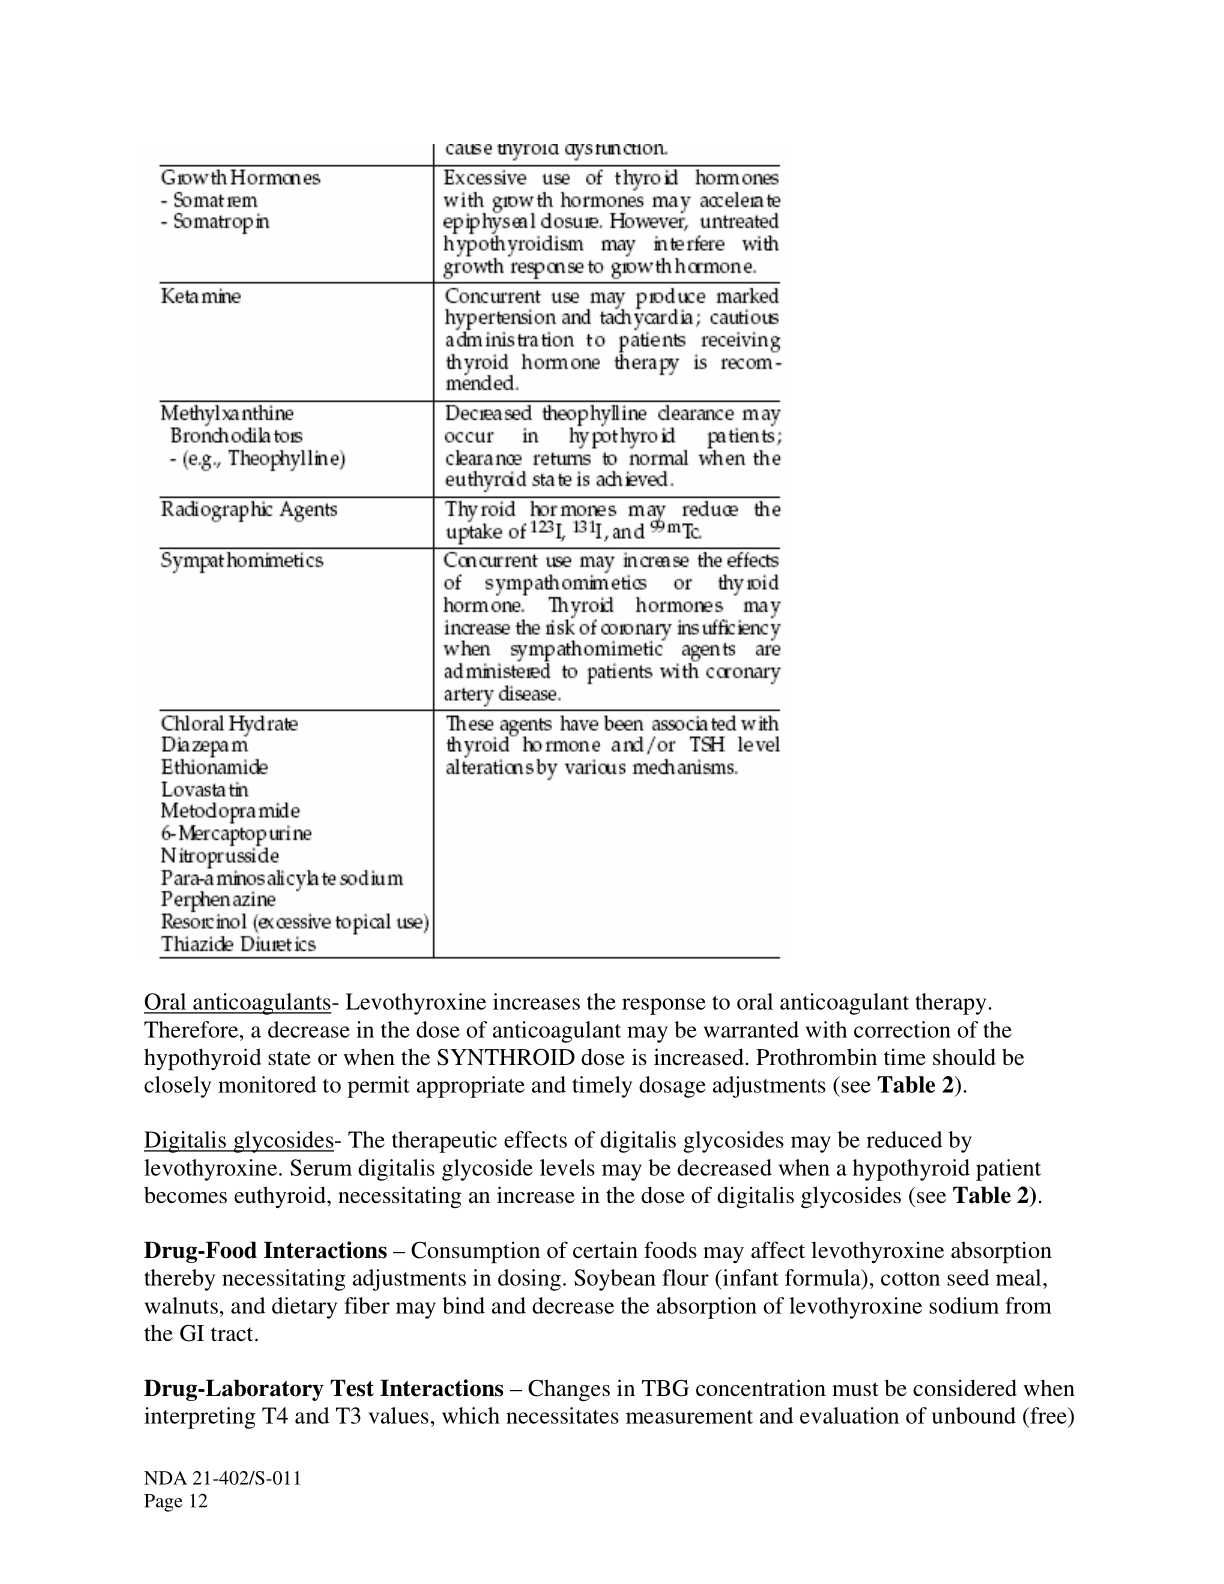partial_lined: (156, 140, 782, 960)
